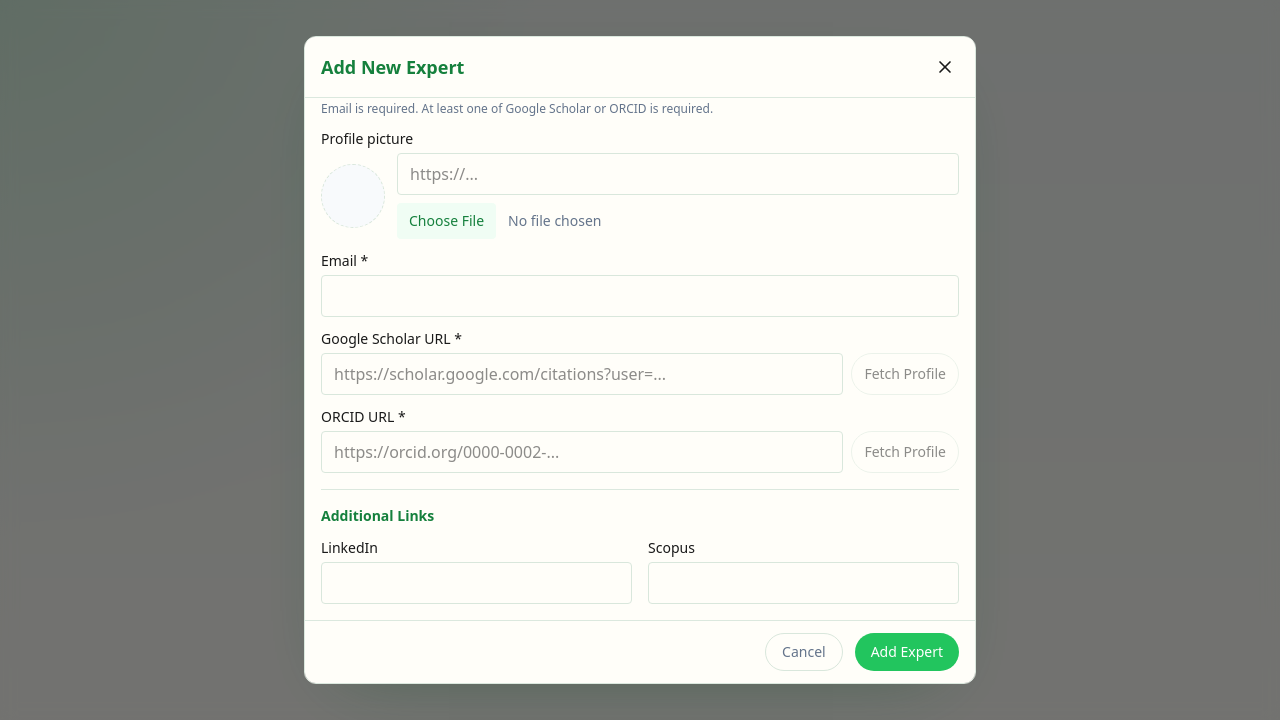
AddExpertModal › derives a Scholar thumbnail preview when profile fetch fails
The width and height of the screenshot is (1280, 720).
(page scrolled)
Type "https://scholar.google.com/citations?hl=en&user=nIBF034AAAAJ" into the field labelled "Google Scholar URL *" at (582, 374), box [321,353,843,395]
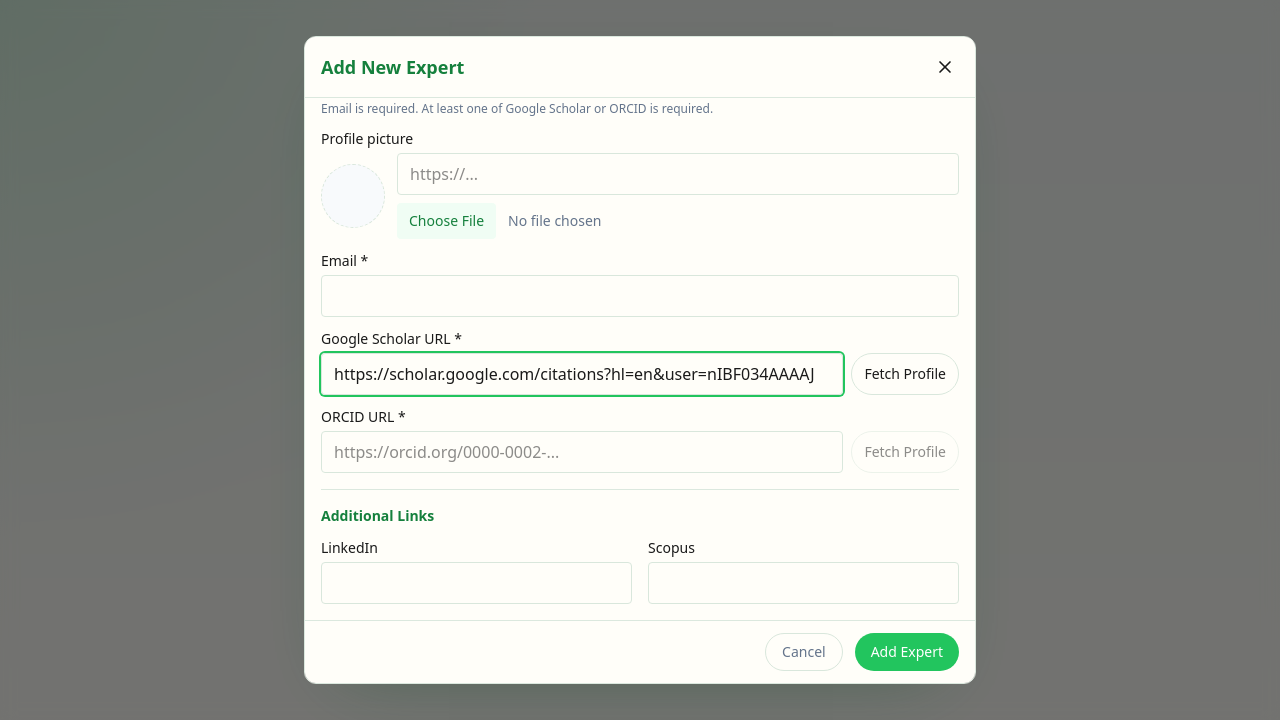
Click the 1st button "Fetch Profile" at (905, 374), box [851,353,959,395]
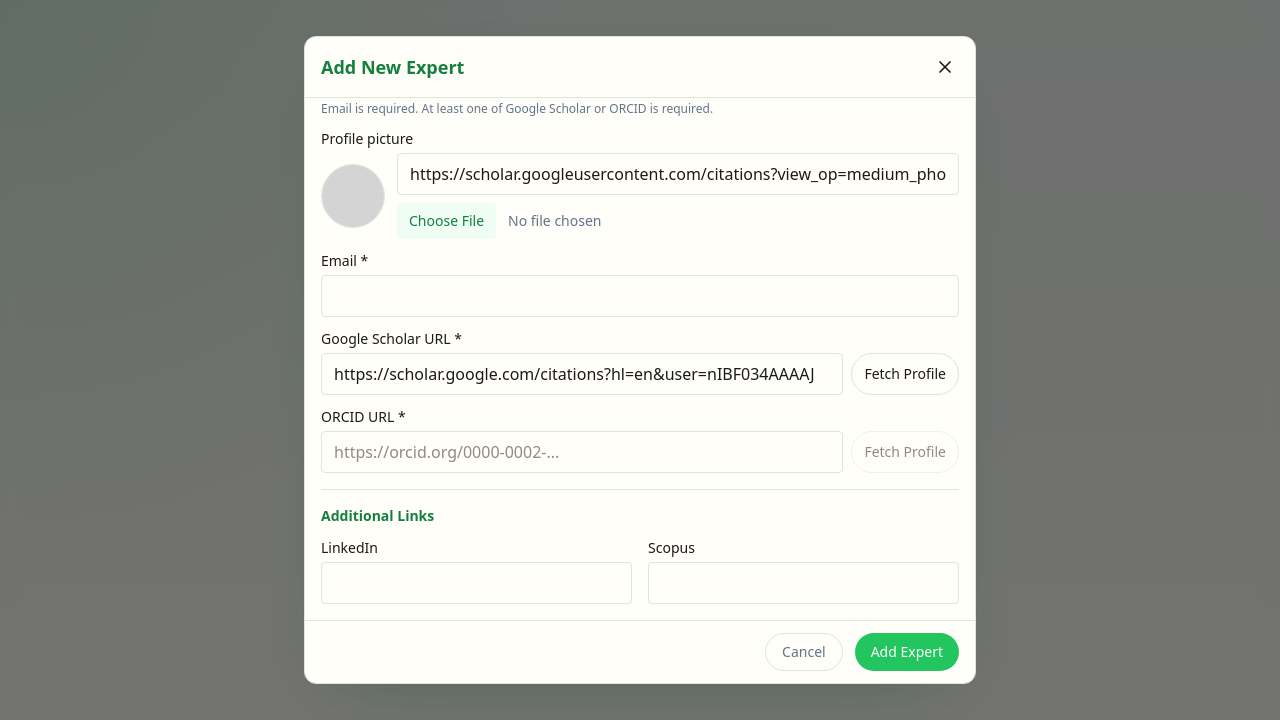
Now the field named "profile picture url" holds "https://scholar.googleusercontent.com/citations?view_op=medium_photo&user=nIBF034AAAAJ", box [397,153,959,195]
